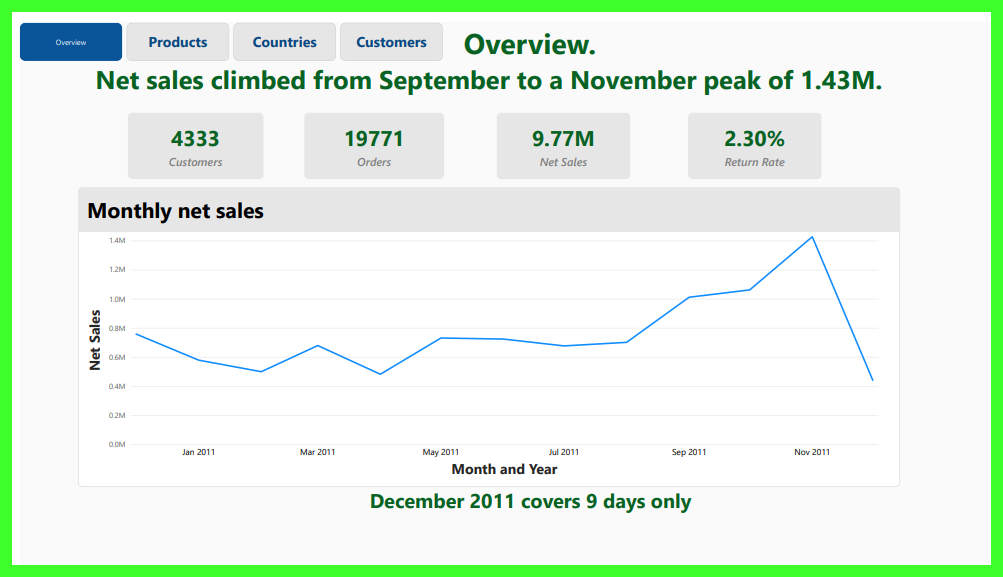

This screenshot's page, from the dashboard's own definition file:
{"tool":"powerbi","page":{"name":"Overview","canvas":[1920,1080],"ordinal":0},"visuals":[{"type":"card","fields":{"Values":["Sum(monthly_sales.net_sales)"]},"box":[898,170,250,124],"z":0},{"type":"card","fields":{"Values":["Sum(kpi_summary.customers)"]},"box":[204,170,254,124],"z":1000},{"type":"card","fields":{"Values":["Sum(kpi_summary.orders)"]},"box":[536,170,262,124],"z":2000},{"type":"card","fields":{"Values":["monthly_sales.Return Rate"]},"box":[1258,170,250,124],"z":3000},{"type":"lineChart","title":"Monthly net sales","fields":{"Category":["monthly_sales.sales_month.Variation.Date Hierarchy.Year","monthly_sales.sales_month.Variation.Date Hierarchy.Month"],"Y":["Sum(monthly_sales.net_sales)"]},"box":[110,310,1546,564],"z":4000},{"type":"textbox","box":[560,874,802,56],"z":5000},{"type":"textbox","box":[793.1,0,333.8,72.3],"z":6000},{"type":"textbox","box":[110,72,1546,68],"z":7000},{"type":"pageNavigator","box":[0,0,799.4,72.3],"z":7001}]}

Visuals, with their boxes in screenshot pixels (x1, y1, x2, y2), scaled from the page's 1920x1080 canvas onto the 1003x577 screenshot:
card - Sum(monthly_sales.net_sales): select_region(469, 91, 600, 157)
card - Sum(kpi_summary.customers): select_region(107, 91, 239, 157)
card - Sum(kpi_summary.orders): select_region(280, 91, 417, 157)
card - monthly_sales.Return Rate: select_region(657, 91, 788, 157)
"Monthly net sales" lineChart: select_region(57, 166, 865, 467)
textbox: select_region(293, 467, 712, 497)
textbox: select_region(414, 0, 589, 39)
textbox: select_region(57, 38, 865, 75)
pageNavigator: select_region(0, 0, 418, 39)
